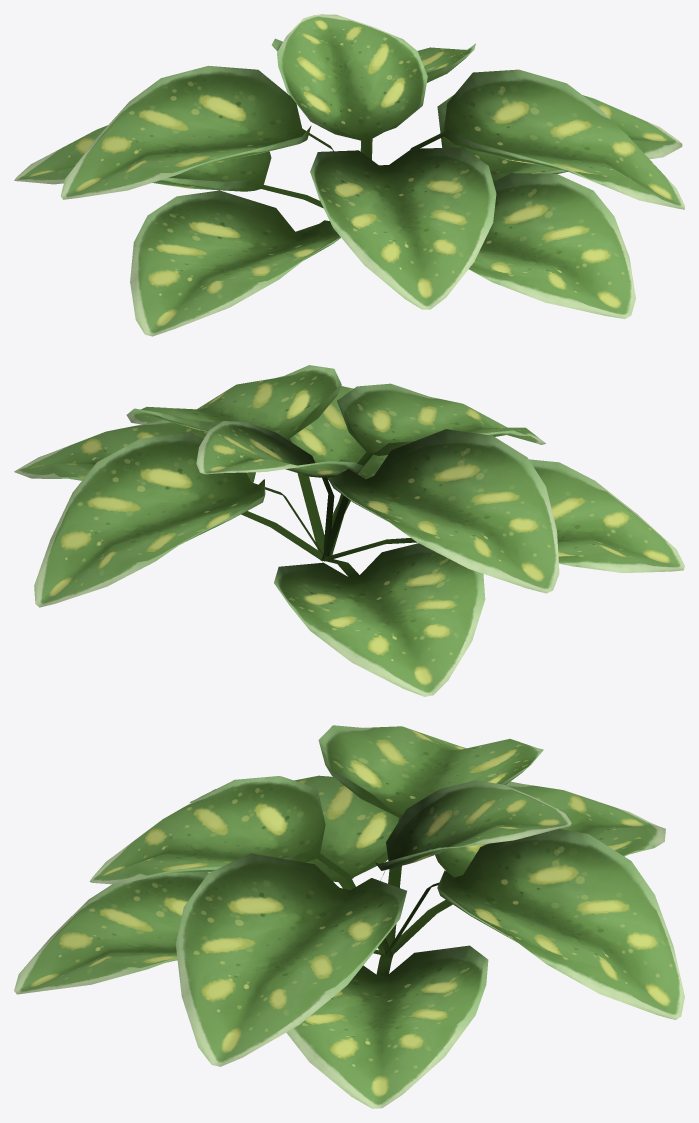
File: Hosta_LG_01.fbx
The picture shows the model from 3 angles, top to bottom: view 1: azimuth 30°, elevation 25°; view 2: azimuth 150°, elevation 25°; view 3: azimuth 270°, elevation 25°; orthographic projection. The views are drawn at different scales.
Parts seen in each view (by area): view 1: Hosta_LG_01; view 2: Hosta_LG_01; view 3: Hosta_LG_01.
Boxes of the visible parts, x1,y1,x2,y2 form: Hosta_LG_01: [14, 14, 684, 336]; Hosta_LG_01: [14, 365, 684, 696]; Hosta_LG_01: [14, 725, 684, 1108].
Size of the model in its own units: 114 by 26.49 by 102.
